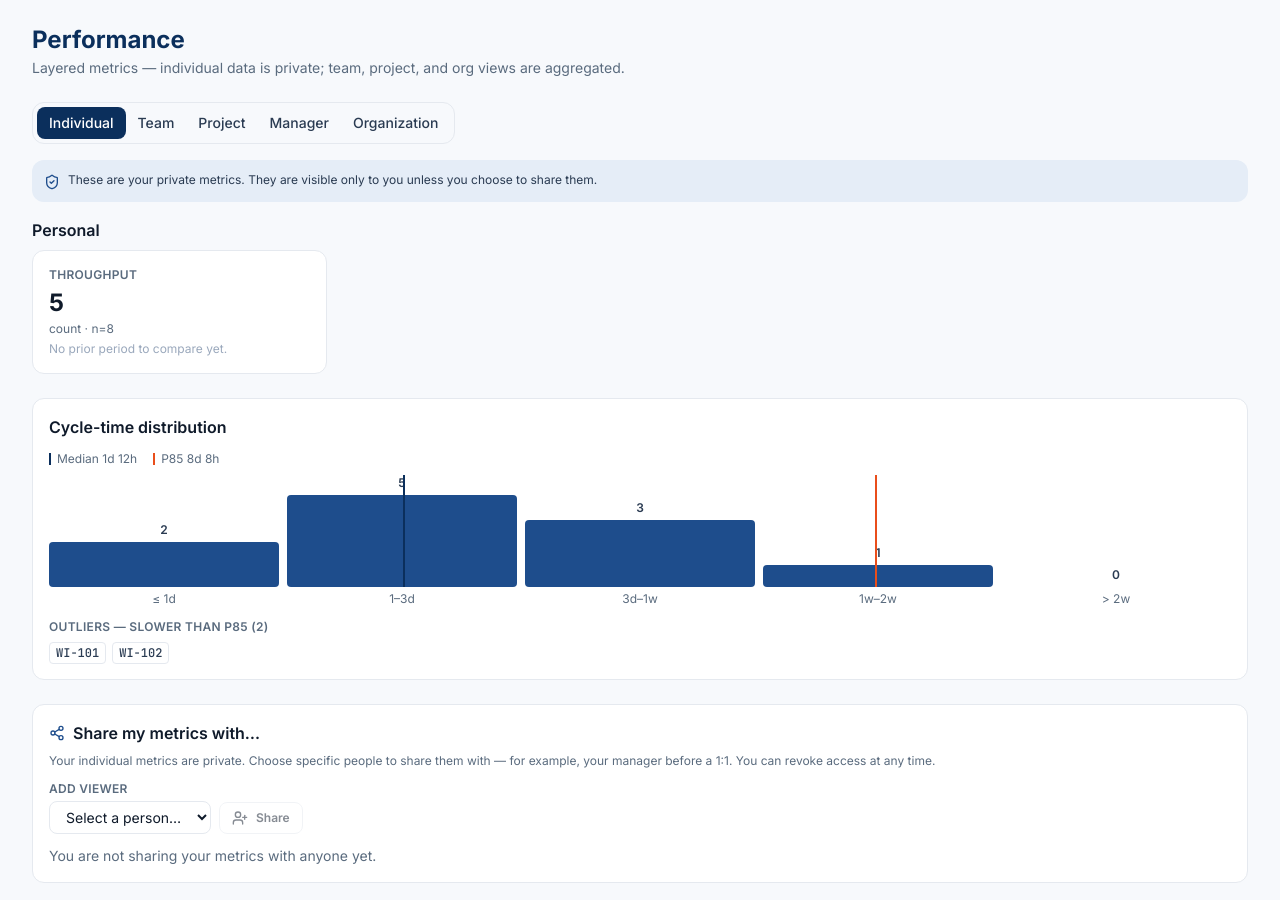
Test case: PerformancePanel › does not render a histogram on the Manager rollup layer
Expected: the text "Throughput" is shown, [49,267,137,283]
Click the tab "Manager": (299, 123) [258,107,341,139]
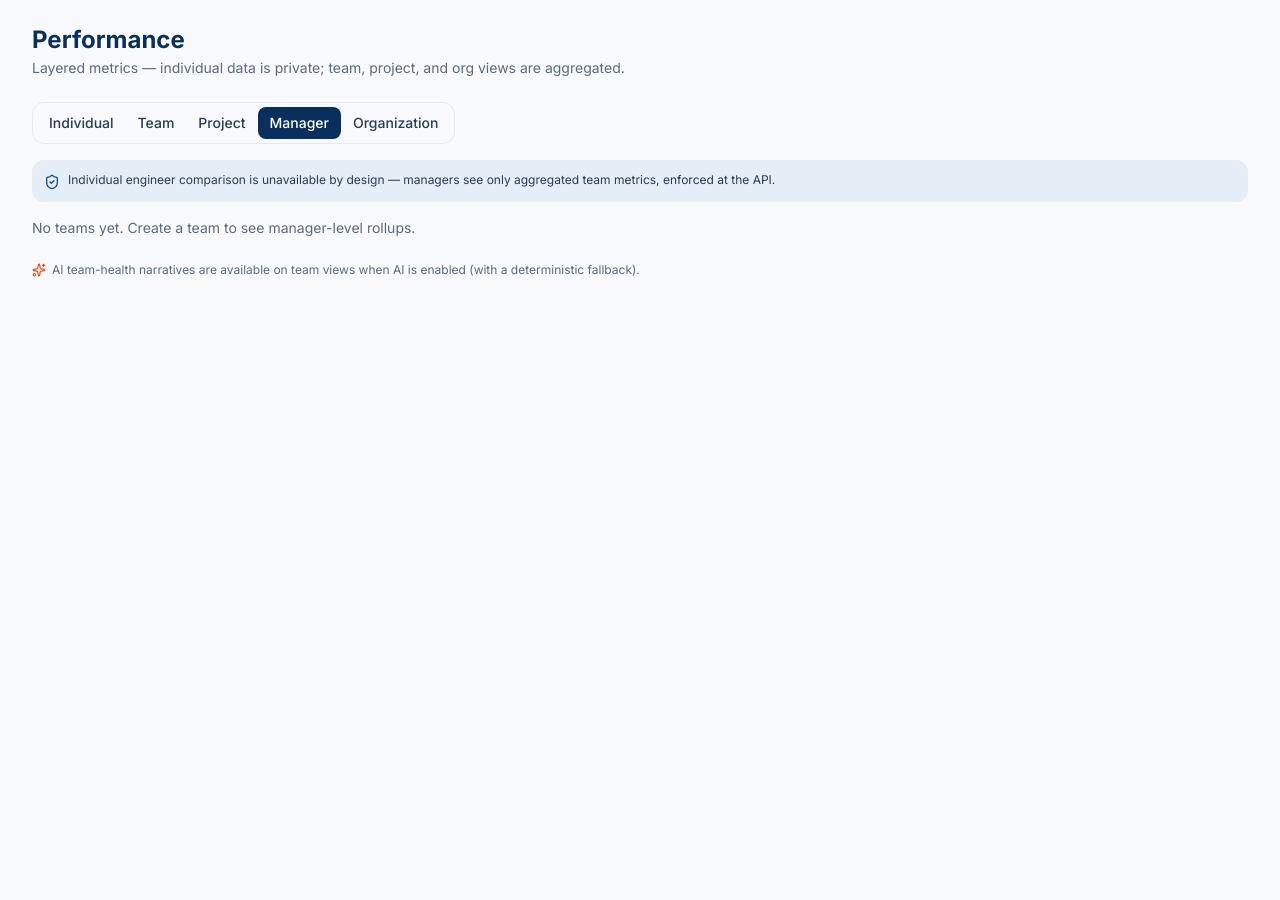
Now the heading "Cycle-time distribution" is gone
